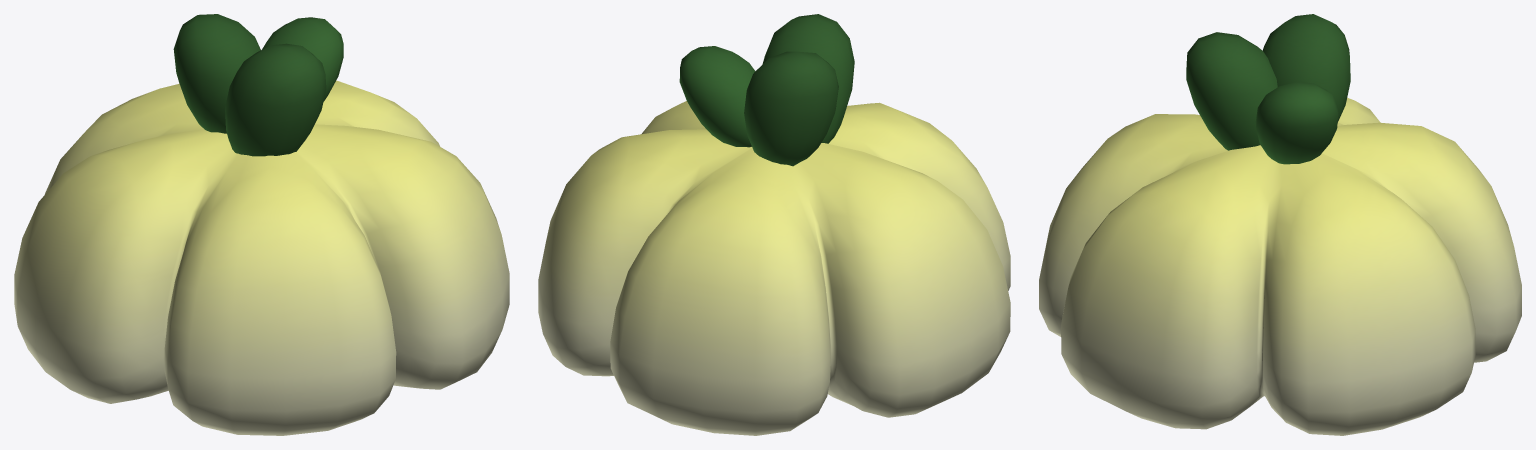
The model's file is Garlic.glb.
3 views of the same model, side by side, from view 1: azimuth 30°, elevation 25°; view 2: azimuth 150°, elevation 25°; view 3: azimuth 270°, elevation 25° (orthographic). The views are drawn at different scales.
Visible parts, largest first — view 1: Garlic; view 2: Garlic; view 3: Garlic.
Part boxes in pixels (<box>): Garlic: <box>14,14,509,435</box>; Garlic: <box>538,14,1010,435</box>; Garlic: <box>1039,14,1521,435</box>.
Size of the model in its own units: 0.2722 by 0.2031 by 0.274.
1 material, 1 textured.
